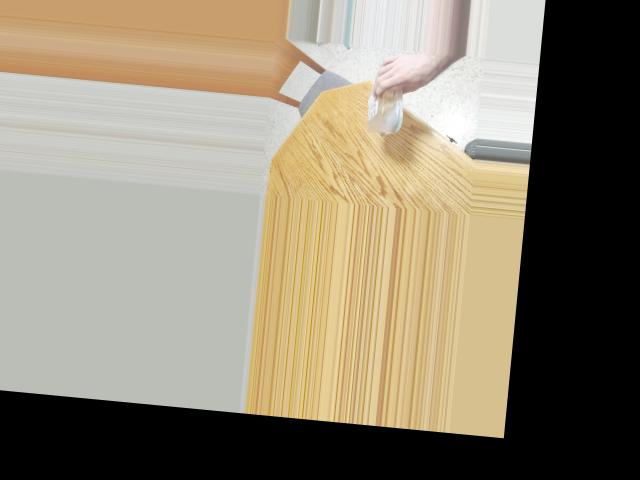cheese: (355, 71, 419, 142)
